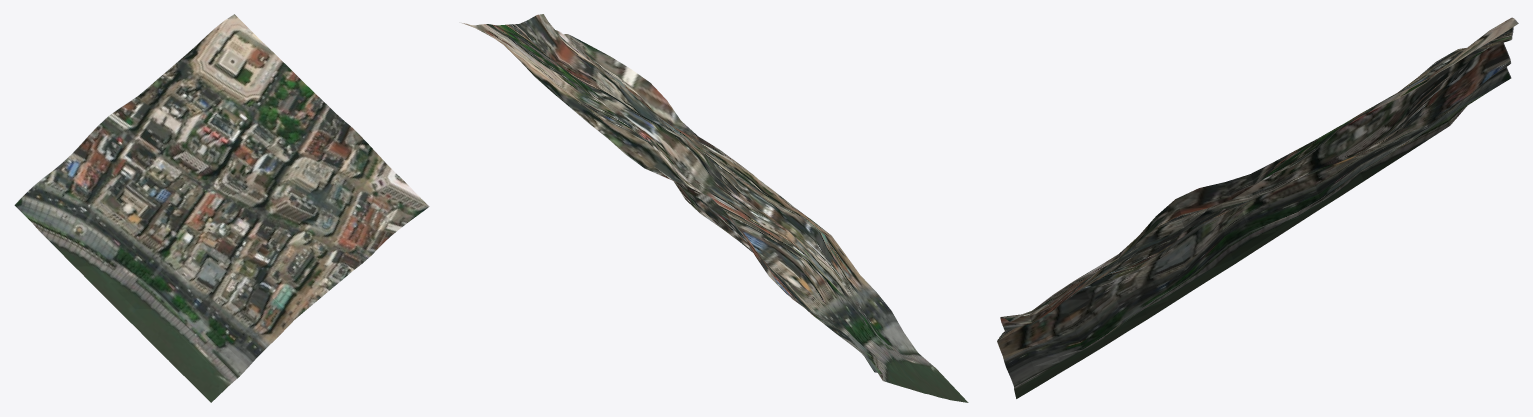
The picture shows the model from 3 angles, left to right: view 1: azimuth 30°, elevation 25°; view 2: azimuth 150°, elevation 25°; view 3: azimuth 270°, elevation 25°; orthographic projection. The views are drawn at different scales.
Bounding box in the file's own units: 590 × 507 × 460.
Materials: 1 (1 with a texture image).
